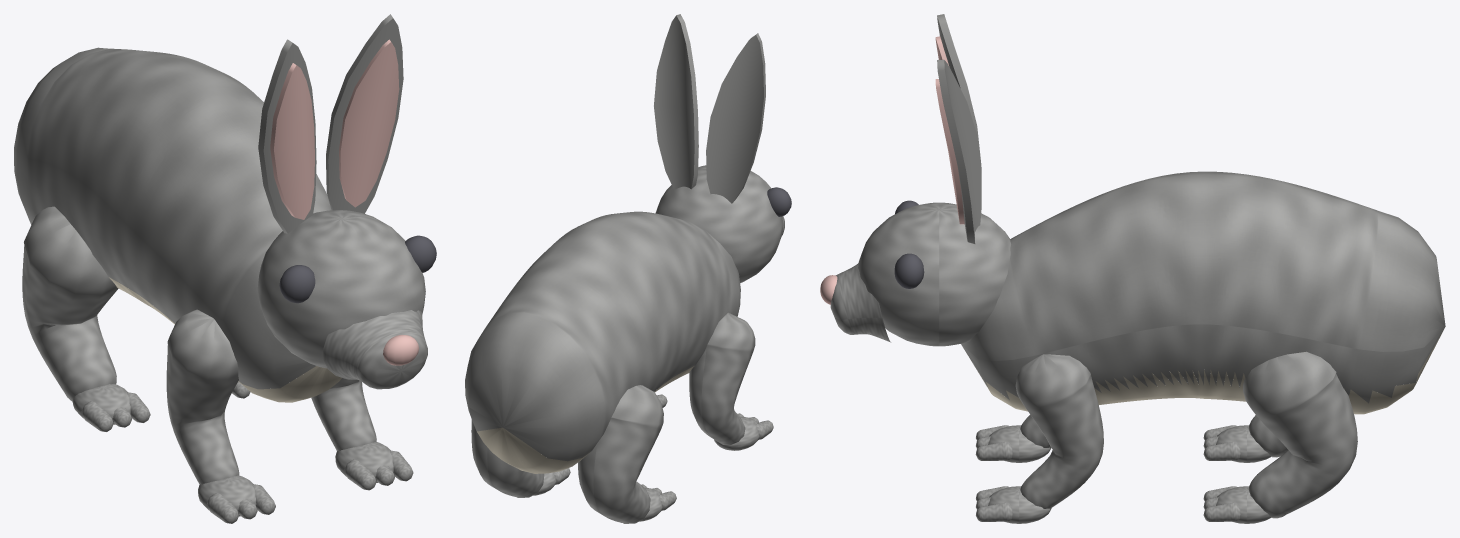
File: rabbit-wild-rabbit.glb
The picture shows the model from 3 angles, left to right: view 1: azimuth 30°, elevation 25°; view 2: azimuth 150°, elevation 25°; view 3: azimuth 270°, elevation 25°; orthographic projection. The views are drawn at different scales.
Visible parts, largest first — view 1: house-rabbit; view 2: house-rabbit; view 3: house-rabbit.
Part boxes in pixels (x1=…): house-rabbit: x1=14, y1=14, x2=436, y2=523; house-rabbit: x1=465, y1=14, x2=791, y2=523; house-rabbit: x1=820, y1=14, x2=1445, y2=523.
Bounding box in the file's own units: 0.1647 × 0.3351 × 0.4193.
Materials: 4 (2 with a texture image).
